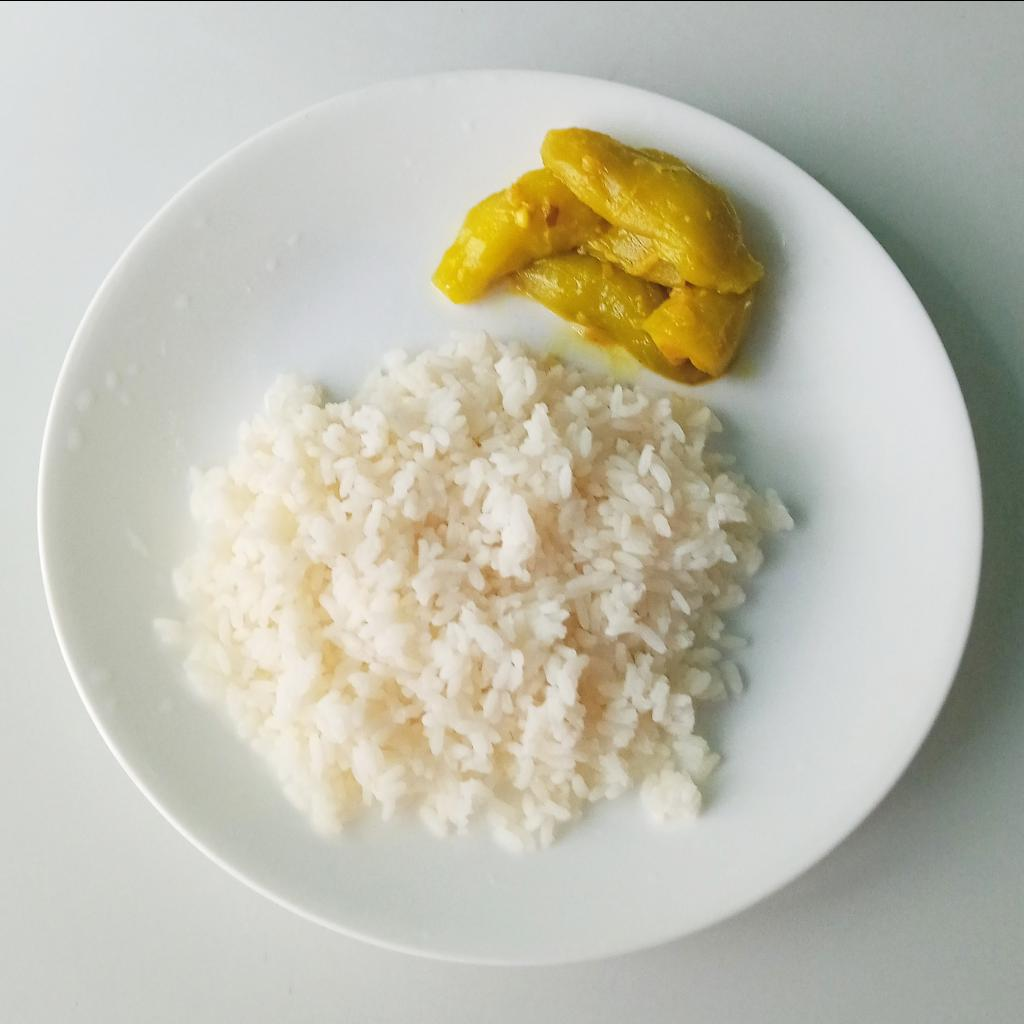potol: (429, 127, 765, 383)
rice: (146, 325, 797, 858)
